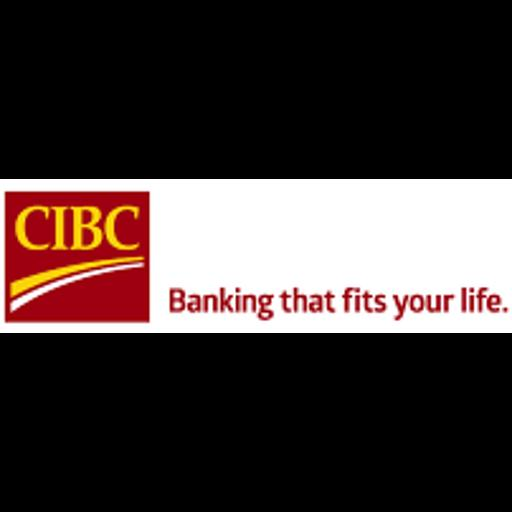Canadian Imperial Bank of Commerce: (0, 179, 512, 333)
